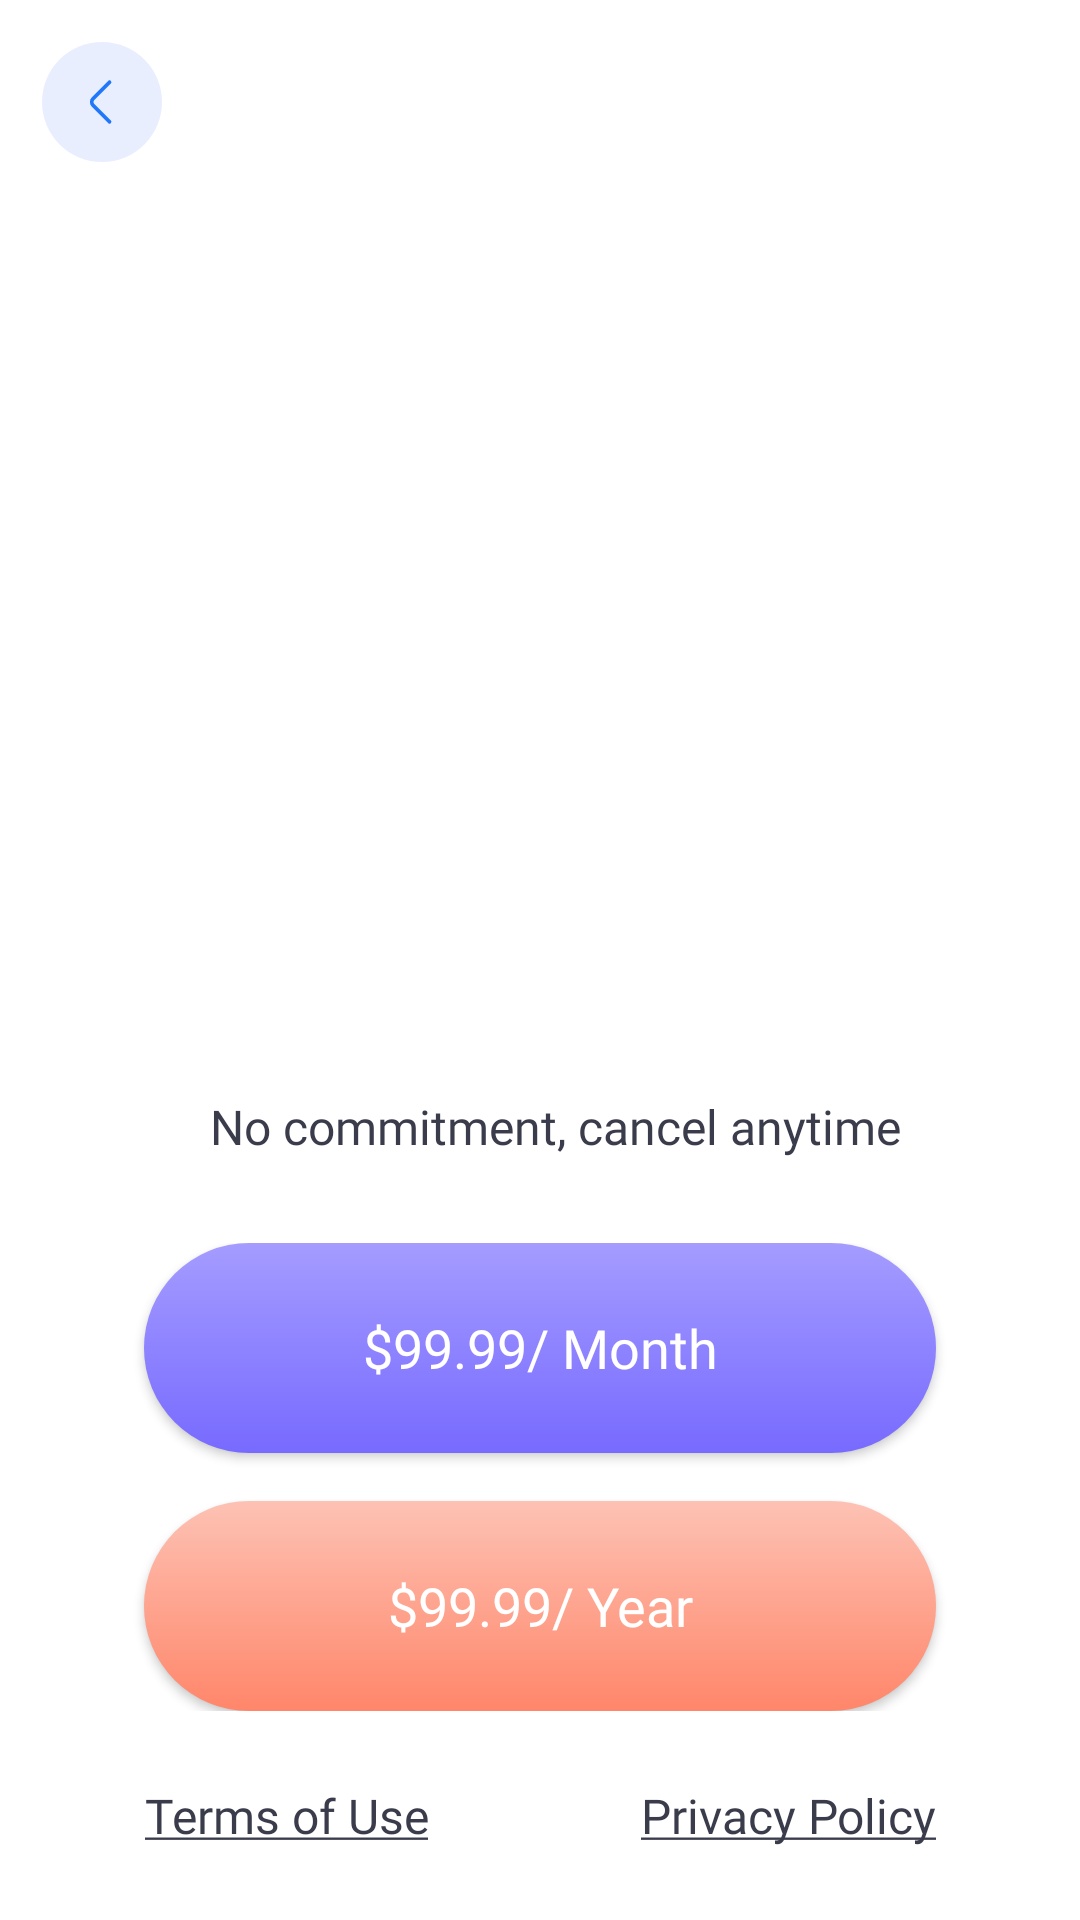

Screen size 1080x1920. Icon name, then its center in pixels as [x,y]:
back: [102,102]
